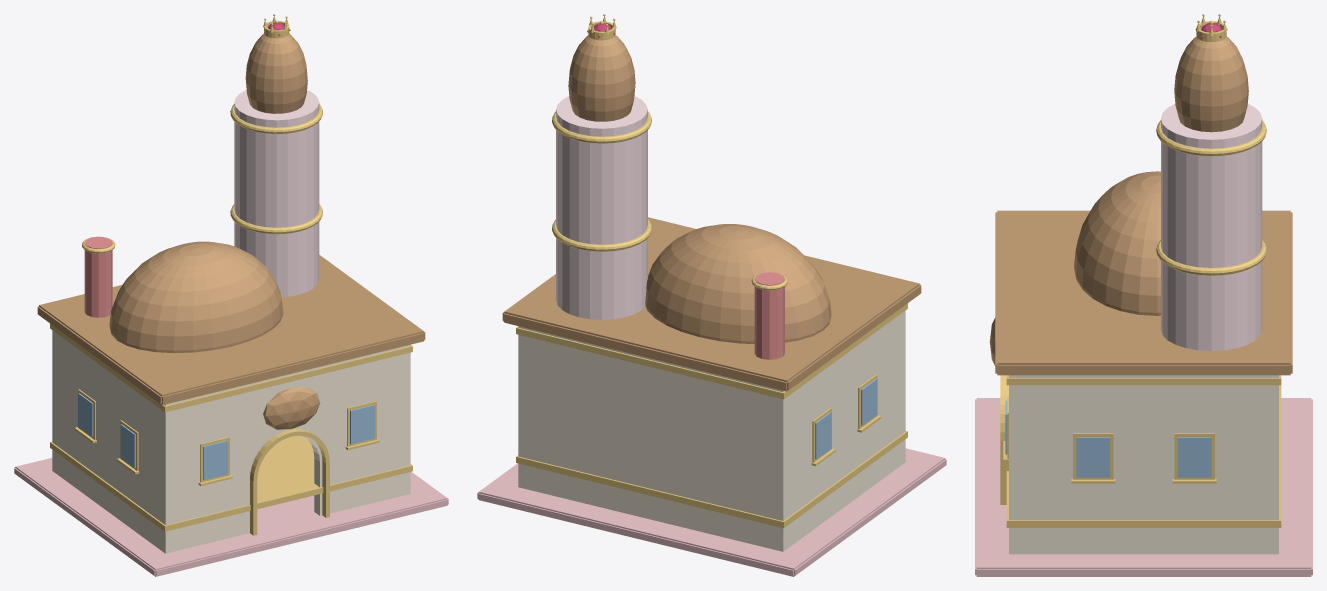
The model's file is HOB_Bld_AlmondFactory.fbx.
3 views of the same model, side by side, from view 1: azimuth 30°, elevation 25°; view 2: azimuth 150°, elevation 25°; view 3: azimuth 270°, elevation 25° (orthographic). The views are drawn at different scales.
Visible parts, largest first — view 1: HOB_Bld_AlmondFactory; view 2: HOB_Bld_AlmondFactory; view 3: HOB_Bld_AlmondFactory.
Boxes of the visible parts, bbox=[...] form: HOB_Bld_AlmondFactory: bbox=[14, 14, 448, 576]; HOB_Bld_AlmondFactory: bbox=[477, 14, 946, 576]; HOB_Bld_AlmondFactory: bbox=[975, 14, 1312, 576].
Bounding box in the file's own units: 1200 × 1686 × 1000.
